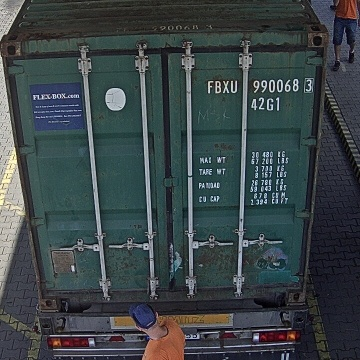serial_id: (208, 78, 313, 93)
